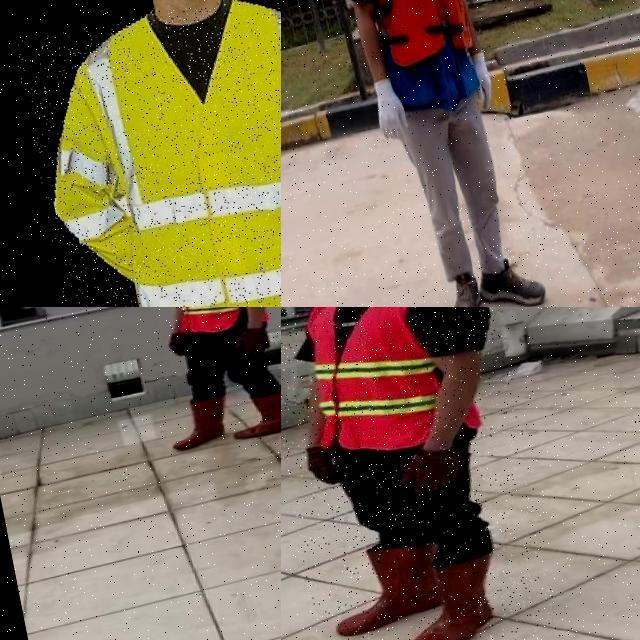boots: (324, 536, 451, 637), (393, 555, 510, 640), (473, 252, 550, 307), (166, 394, 230, 454), (225, 383, 281, 443), (442, 263, 488, 307)
vest: (13, 0, 281, 307), (297, 307, 484, 461), (343, 0, 483, 116), (164, 307, 254, 336)
